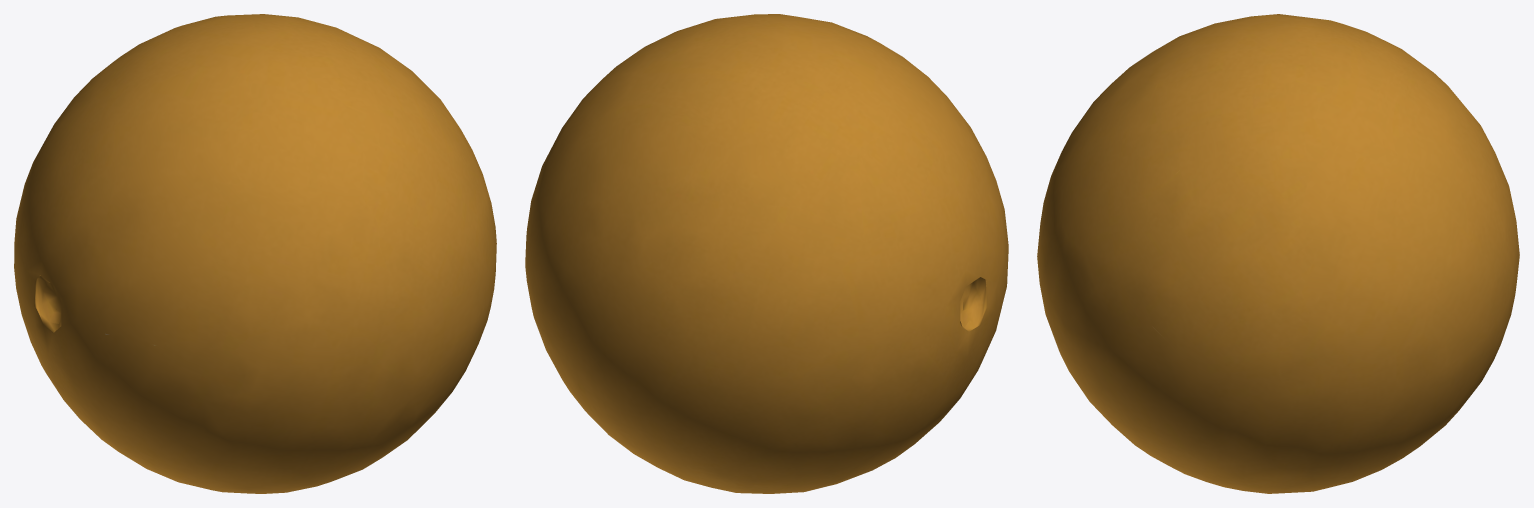
The model's file is Star.glb.
3 renders of one model, left to right at view 1: azimuth 30°, elevation 25°; view 2: azimuth 150°, elevation 25°; view 3: azimuth 270°, elevation 25°, orthographic.
Parts seen in each view (by area): view 1: tripo_node_5ae9b5ee-5a8c-4a9c-9bc1-b05276961857; view 2: tripo_node_5ae9b5ee-5a8c-4a9c-9bc1-b05276961857; view 3: tripo_node_5ae9b5ee-5a8c-4a9c-9bc1-b05276961857.
Boxes of the visible parts, x1,y1,x2,y2 form: tripo_node_5ae9b5ee-5a8c-4a9c-9bc1-b05276961857: [14, 14, 496, 493]; tripo_node_5ae9b5ee-5a8c-4a9c-9bc1-b05276961857: [525, 14, 1008, 493]; tripo_node_5ae9b5ee-5a8c-4a9c-9bc1-b05276961857: [1037, 14, 1519, 493].
Bounding box in the file's own units: 0.9764 × 0.9803 × 0.9813.
Materials: 1 (1 with a texture image).
